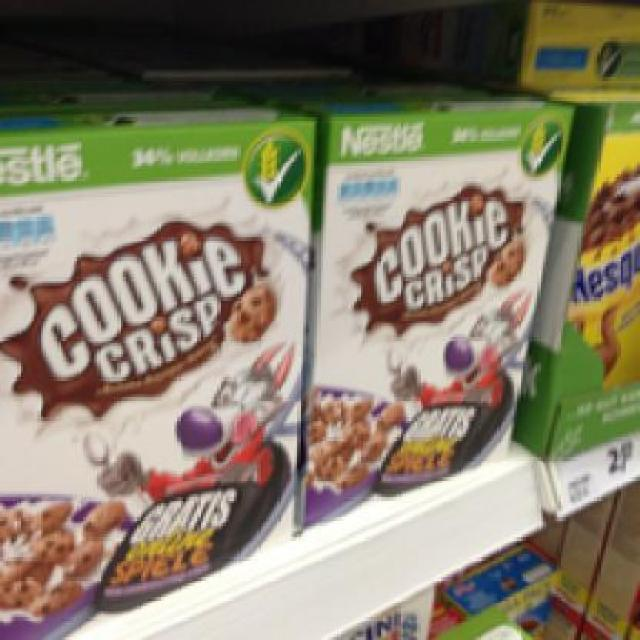Cereal: (0, 98, 315, 632), (302, 80, 575, 526)
